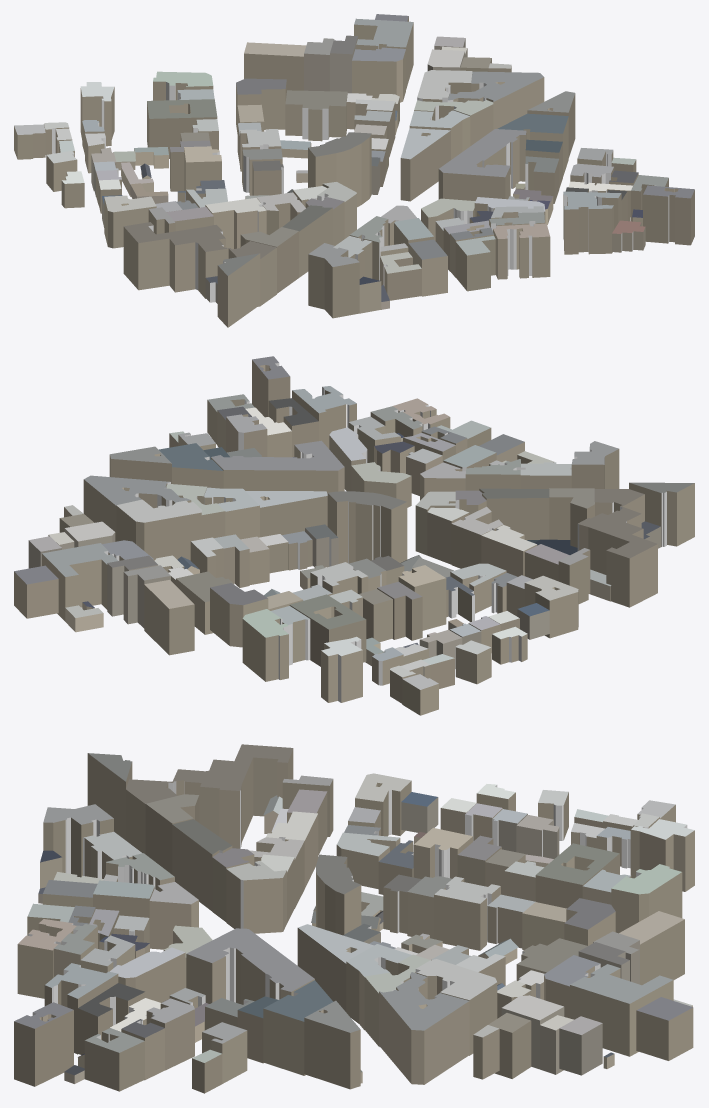
3 views of the same model, one above another, from view 1: azimuth 30°, elevation 25°; view 2: azimuth 150°, elevation 25°; view 3: azimuth 270°, elevation 25° (orthographic). The views are drawn at different scales.
Parts seen in each view (by area): view 1: tuile; view 2: tuile; view 3: tuile.
Part boxes in pixels (x1=…): tuile: x1=14, y1=14, x2=694, y2=327; tuile: x1=14, y1=356, x2=694, y2=715; tuile: x1=14, y1=744, x2=694, y2=1093.
Size of the model in its own units: 270 by 35.4 by 267.
